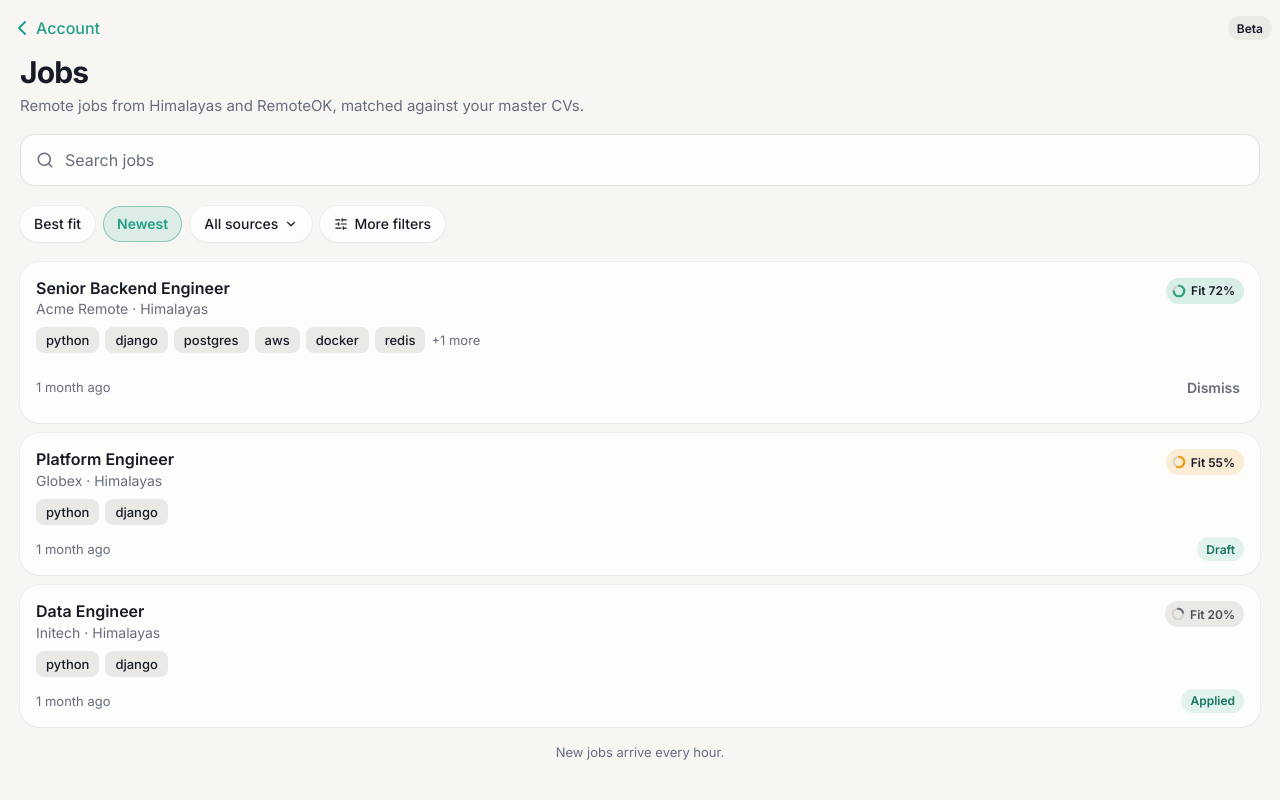
Scenario: Jobs below md › writes the sort, the search and the source to the URL
Expected: the element "Senior Backend Engineer" is shown, left=20, top=262, right=1260, bottom=423
Click the button "Best fit": point(58, 224) left=20, top=202, right=95, bottom=246
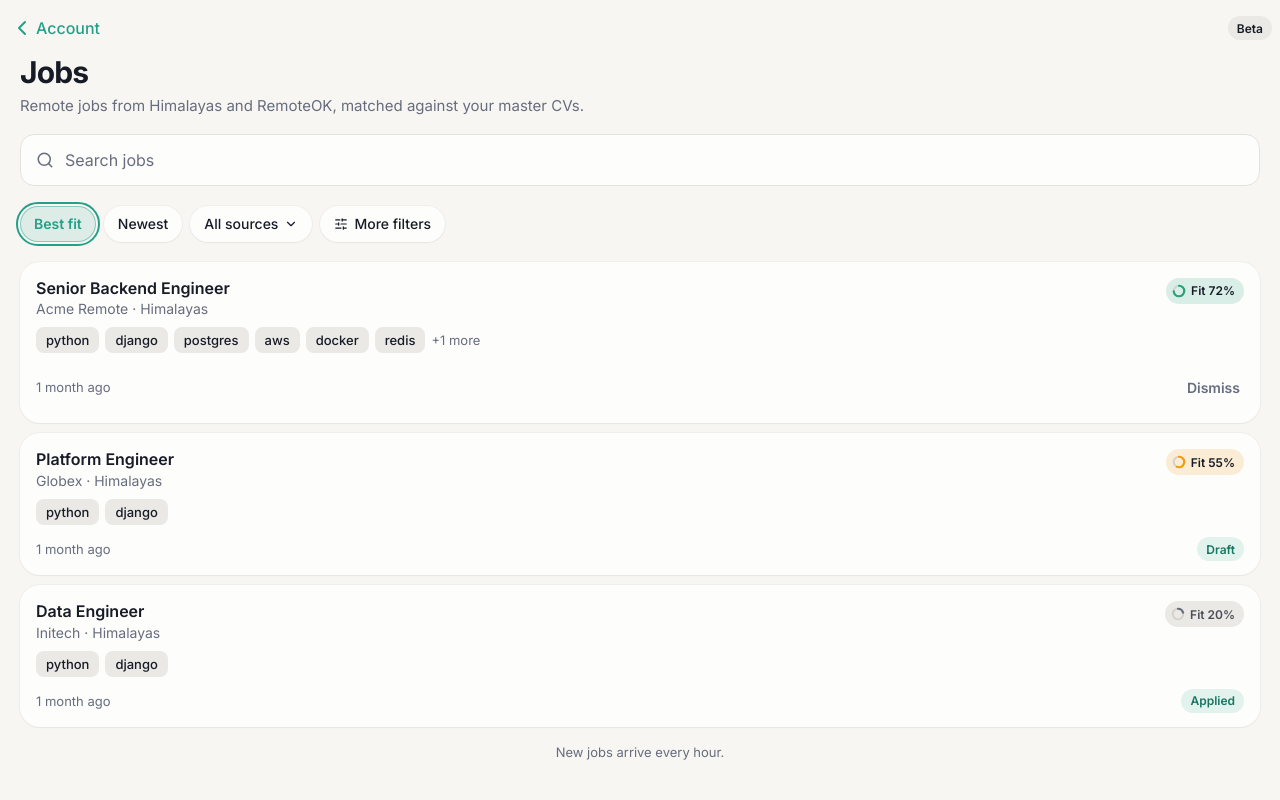
Expected: the button "Best fit" is pressed, left=20, top=202, right=96, bottom=246
In the search field labelled "Search jobs": point(640, 160) left=20, top=134, right=1260, bottom=186, type "python"
Then press Enter
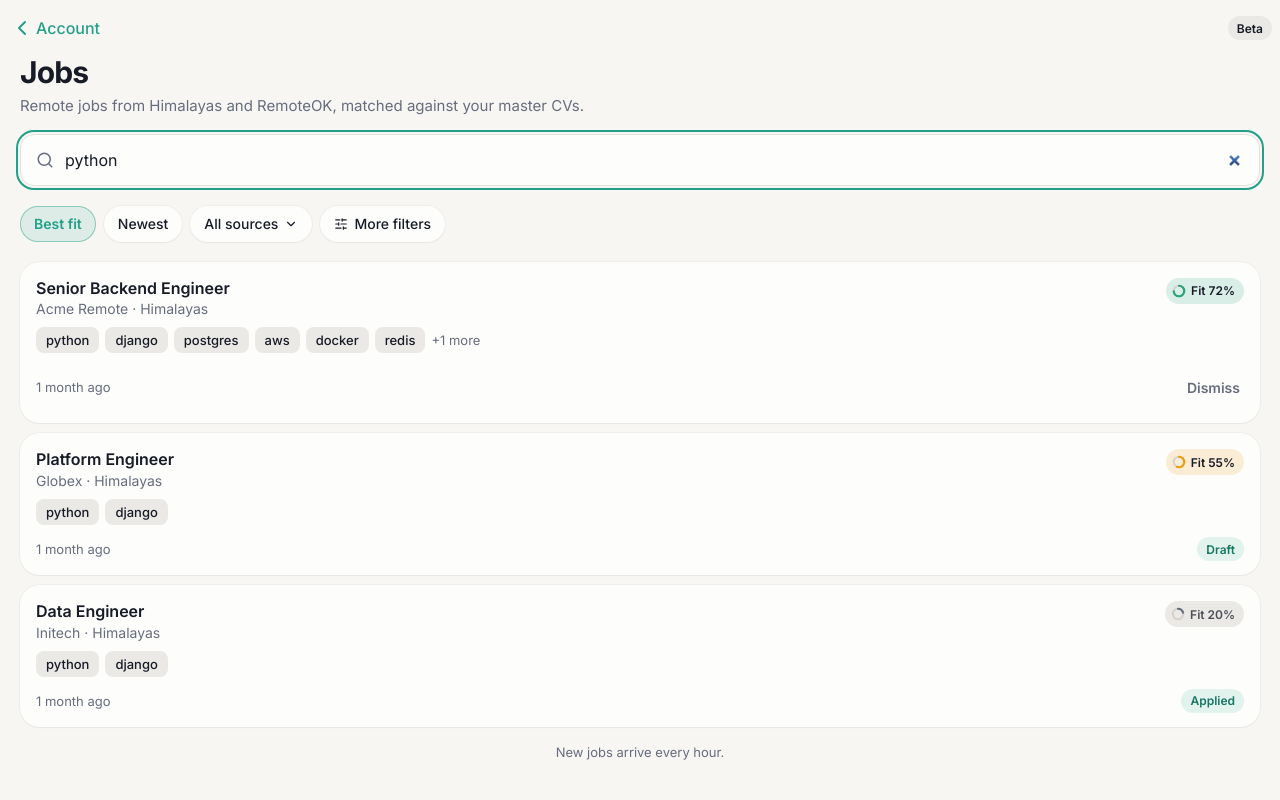
Expected: the text "python" in the row of "postgres" is shown, left=46, top=332, right=89, bottom=348
Click the button "All sources": point(251, 224) left=190, top=202, right=312, bottom=246
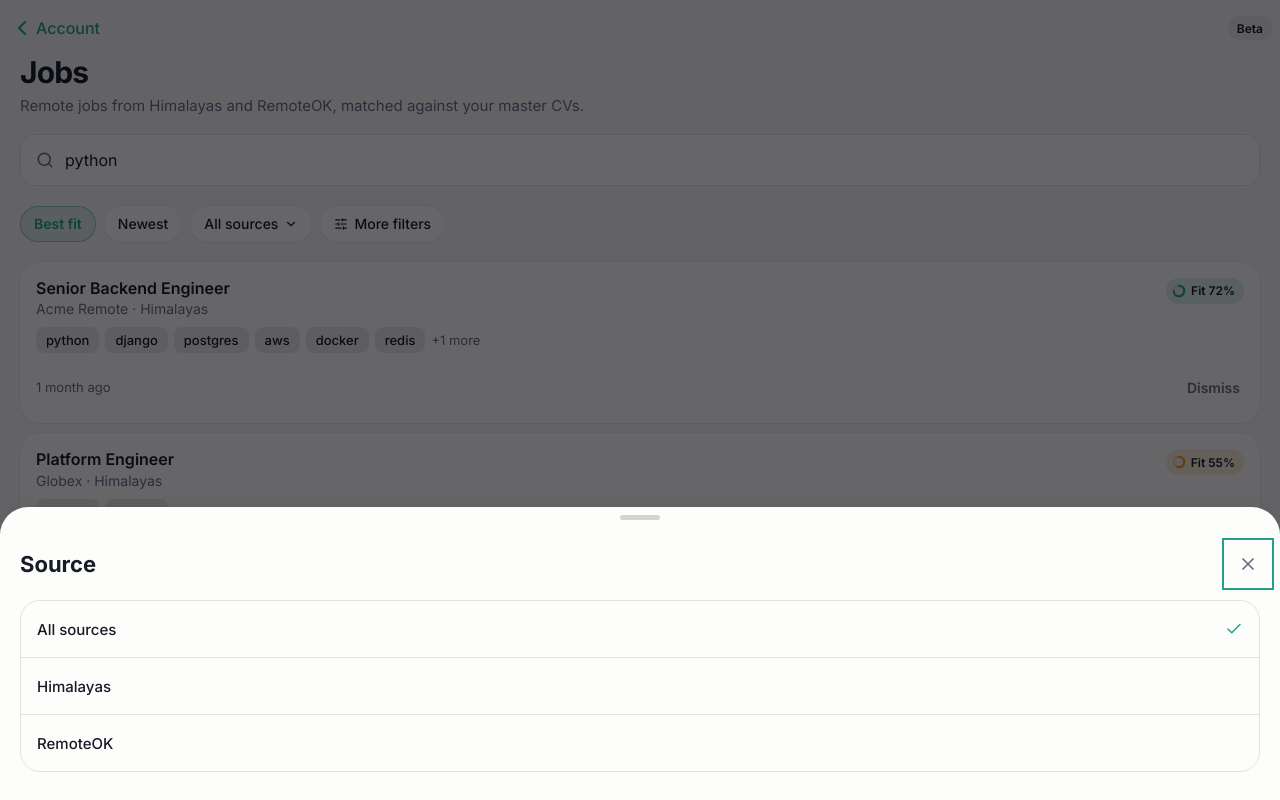
Click the button "RemoteOK": point(75, 743) left=21, top=715, right=1259, bottom=771
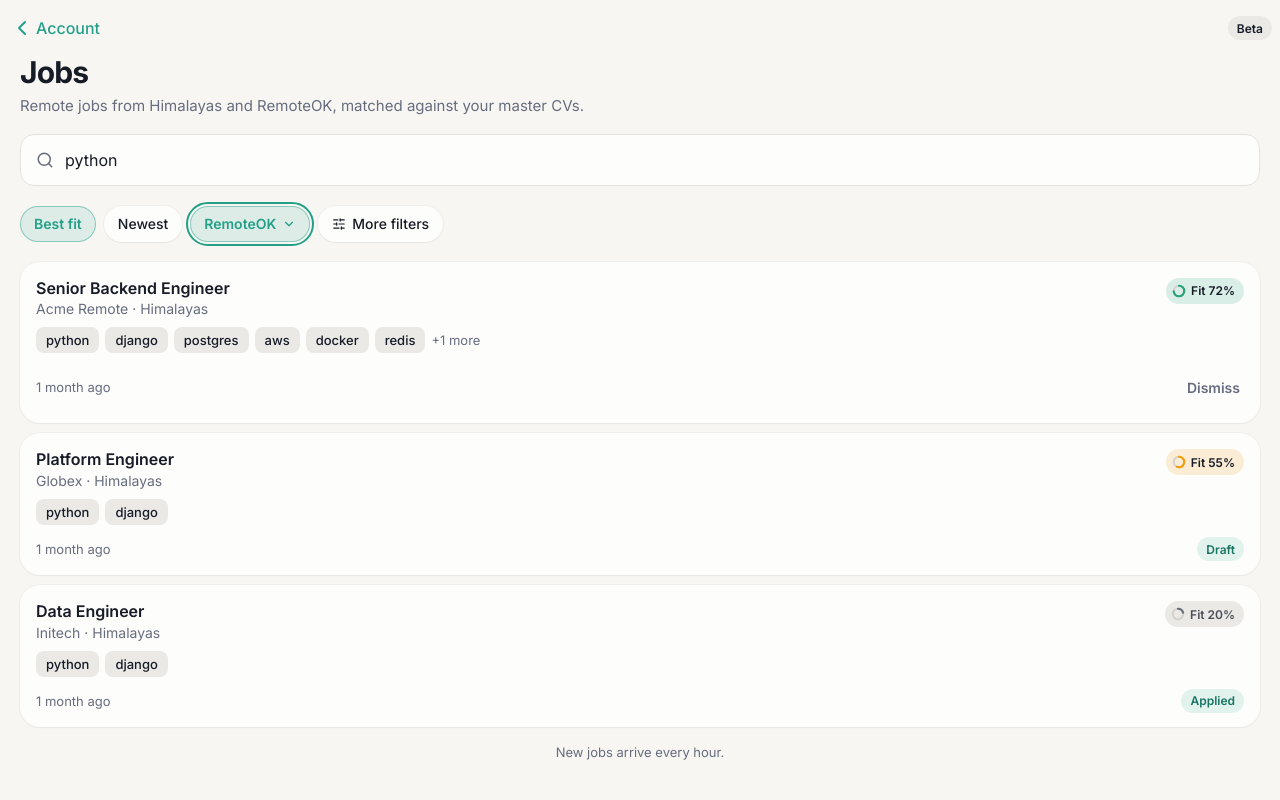
Expected: the button "source" is gone
